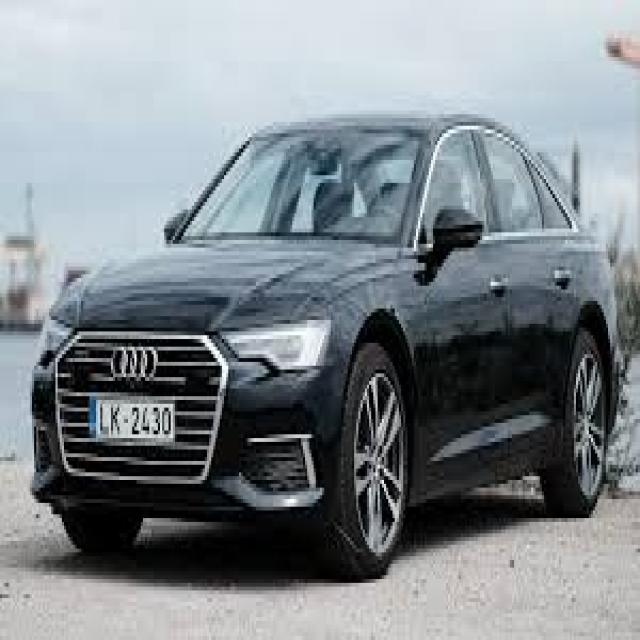black: (26, 100, 640, 529)
